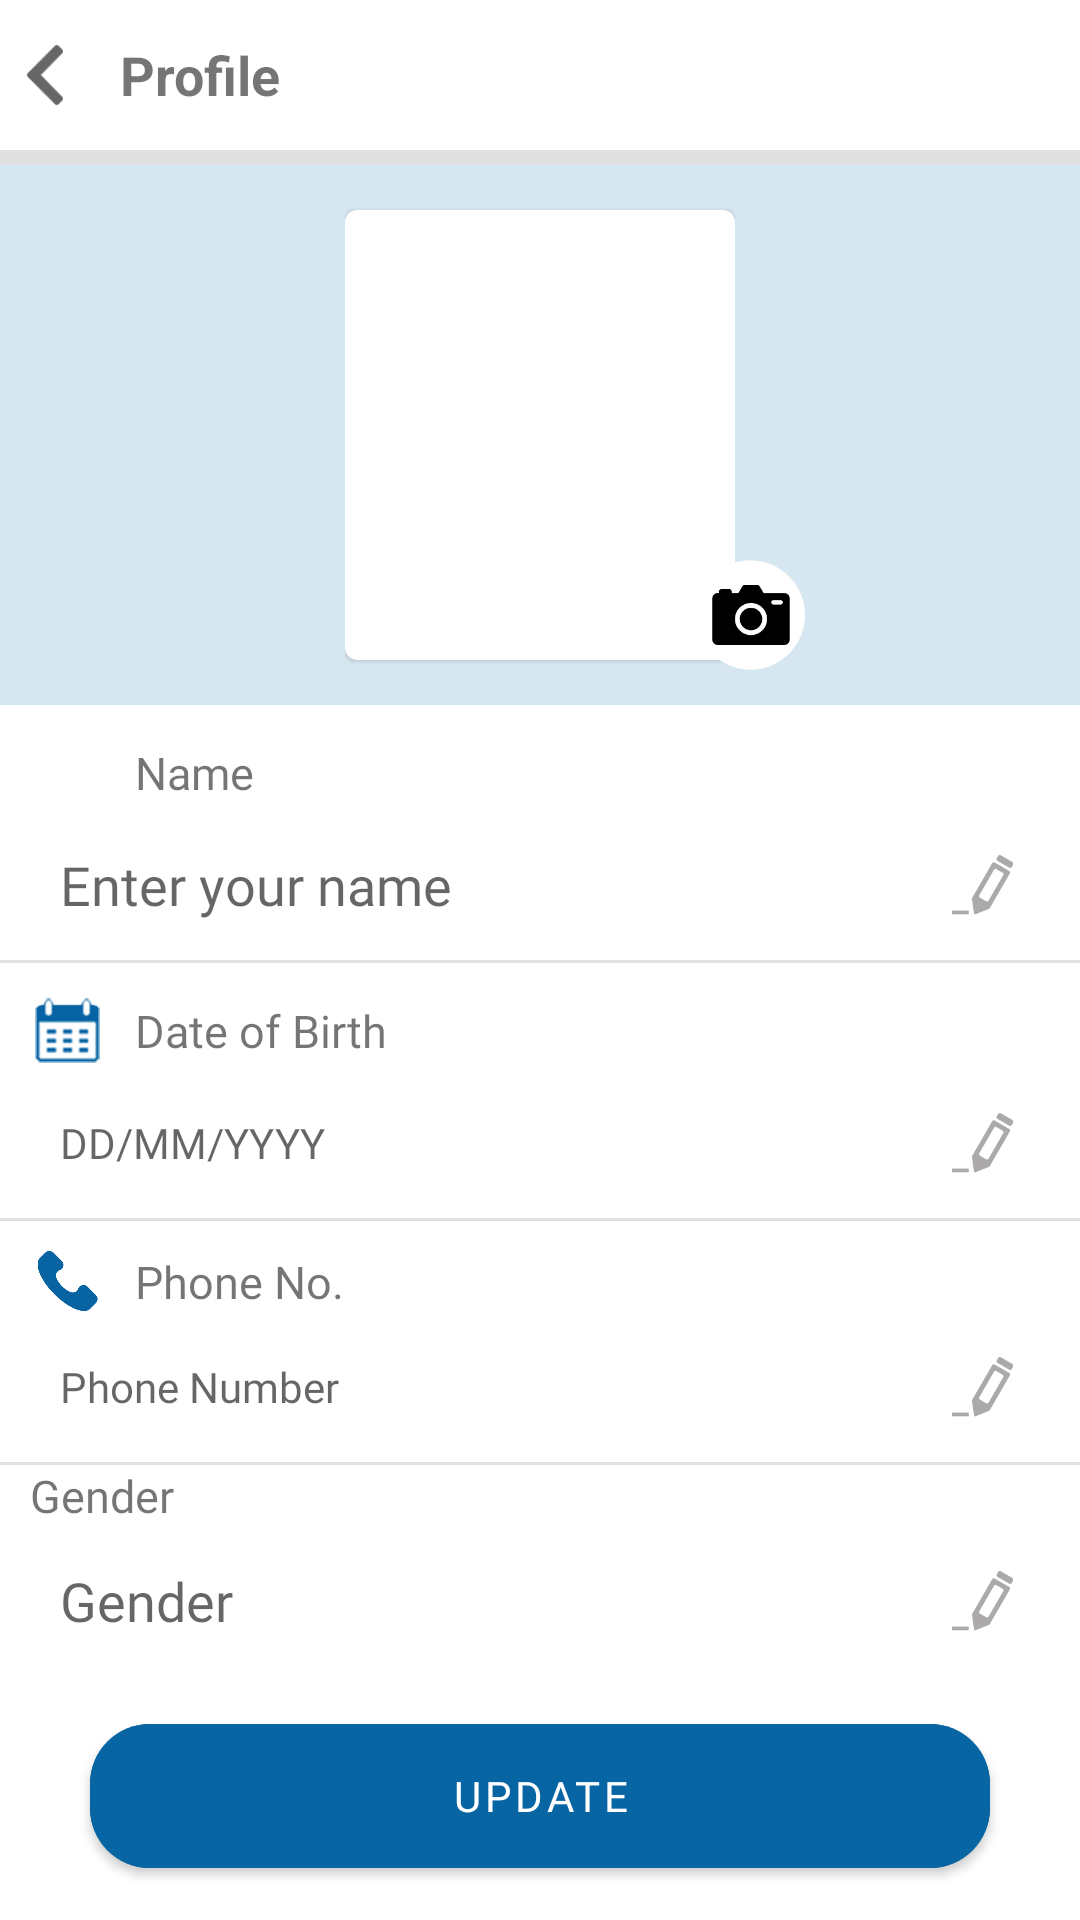

Point at icon controls on the screen. Image size 1080 x 1920, points as (x=x, y=y).
back: (x=45, y=75)
calnew: (x=67, y=1030)
cmer: (x=748, y=612)
edit: (x=982, y=885), (x=982, y=1143), (x=982, y=1387), (x=982, y=1601)
phonenn: (x=68, y=1281)
